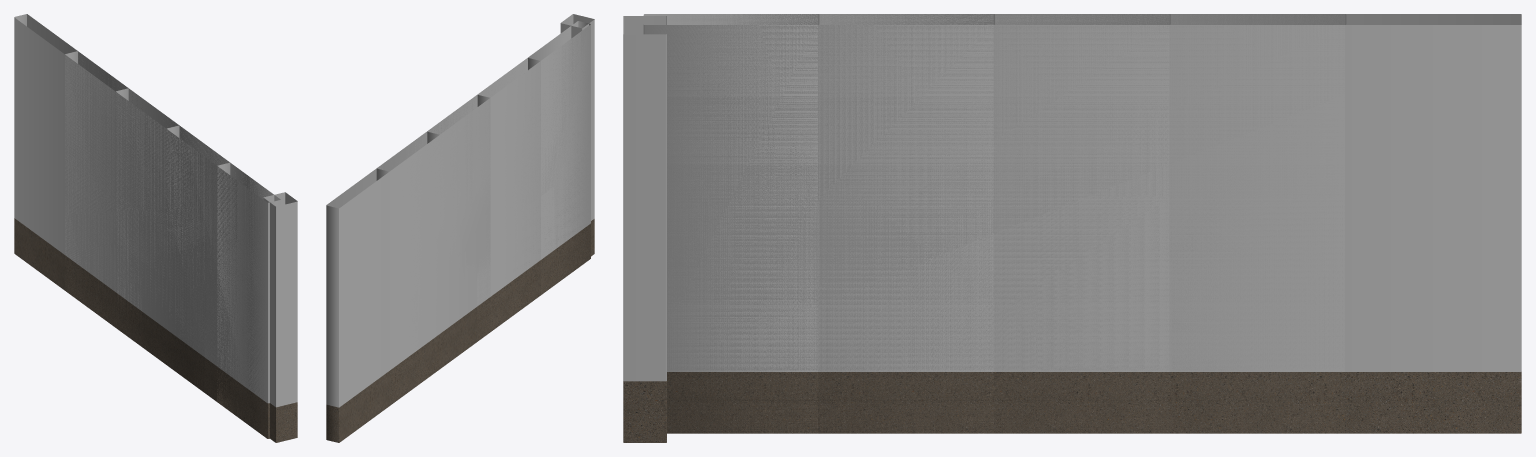
The model's file is SM_WallsHigh.fbx.
3 renders of one model, left to right at view 1: azimuth 30°, elevation 25°; view 2: azimuth 150°, elevation 25°; view 3: azimuth 270°, elevation 25°, orthographic. The views are drawn at different scales.
Parts seen in each view (by area): view 1: Wall_10_High, Wall_08_High, Wall_06__High, Wall_02_High, Column01_High, Wall_04__High, WallDoor_08_02_High, WallDoor_08_High, WallDoor_06_02_High, WallDoor_06_High, WallDoor_04_High; view 2: Wall_10_High, Wall_08_High, WallDoor_08_High, Wall_04__High, Wall_02_High, WallDoor_04_High, WallDoor_08_02_High, WallDoor_06_02_High, WallDoor_06_High, Column01_High, Wall_06__High; view 3: Wall_10_High, Wall_08_High, Wall_06__High, Wall_04__High, WallDoor_08_High, Wall_02_High, WallDoor_08_02_High, Column01_High, WallDoor_06_High, WallDoor_06_02_High, WallDoor_04_High.
Part boxes in pixels (<box>): Wall_10_High: <box>14,14,278,432</box>; Wall_08_High: <box>65,51,280,438</box>; Wall_06__High: <box>116,88,277,436</box>; Wall_02_High: <box>217,162,280,438</box>; Column01_High: <box>263,192,297,442</box>; Wall_04__High: <box>166,125,279,438</box>; WallDoor_08_02_High: <box>65,51,274,438</box>; WallDoor_08_High: <box>65,57,267,435</box>; WallDoor_06_02_High: <box>116,88,269,431</box>; WallDoor_06_High: <box>116,89,276,433</box>; WallDoor_04_High: <box>167,136,268,426</box>; Wall_10_High: <box>326,25,590,442</box>; Wall_08_High: <box>376,23,590,404</box>; WallDoor_08_High: <box>380,26,590,405</box>; Wall_04__High: <box>478,21,590,331</box>; Wall_02_High: <box>528,21,590,294</box>; WallDoor_04_High: <box>477,24,590,329</box>; WallDoor_08_02_High: <box>377,21,589,404</box>; WallDoor_06_02_High: <box>427,30,589,281</box>; WallDoor_06_High: <box>445,26,590,341</box>; Column01_High: <box>560,14,594,256</box>; Wall_06__High: <box>427,24,590,340</box>; Wall_10_High: <box>645,14,1521,433</box>; Wall_08_High: <box>644,14,1346,433</box>; Wall_06__High: <box>645,14,1170,433</box>; Wall_04__High: <box>644,14,994,433</box>; WallDoor_08_High: <box>646,14,1344,433</box>; Wall_02_High: <box>643,14,819,433</box>; WallDoor_08_02_High: <box>643,14,1345,433</box>; Column01_High: <box>623,16,666,442</box>; WallDoor_06_High: <box>645,14,1169,433</box>; WallDoor_06_02_High: <box>652,14,1168,433</box>; WallDoor_04_High: <box>645,14,993,433</box>.
Size of the model in its own units: 55 by 513 by 1024.
